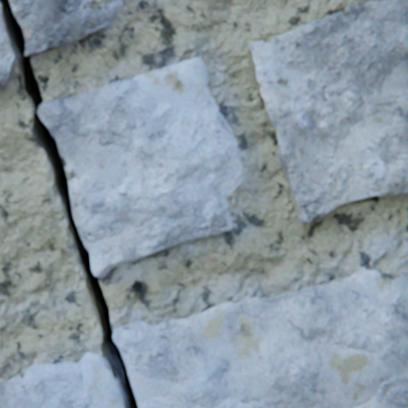brick: (247, 0, 407, 223)
broken_brick: (37, 58, 242, 277), (112, 267, 407, 407), (0, 352, 123, 407), (9, 0, 123, 56), (0, 2, 17, 87)
crack: (1, 0, 137, 407)
